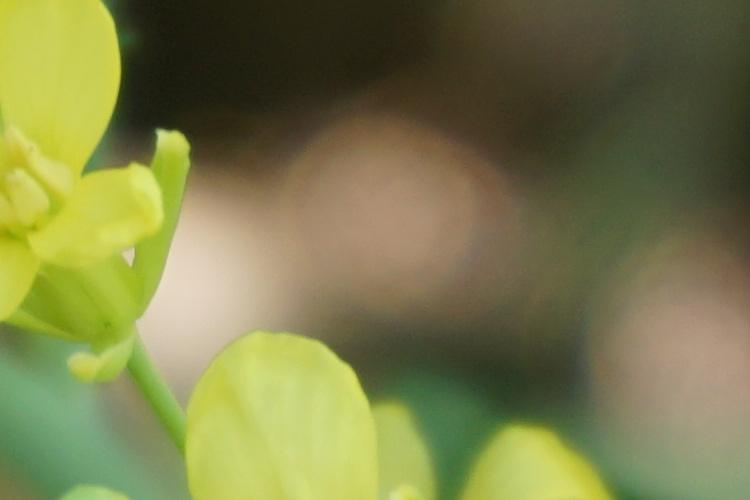yellow: (2, 1, 192, 387), (180, 338, 614, 500)
